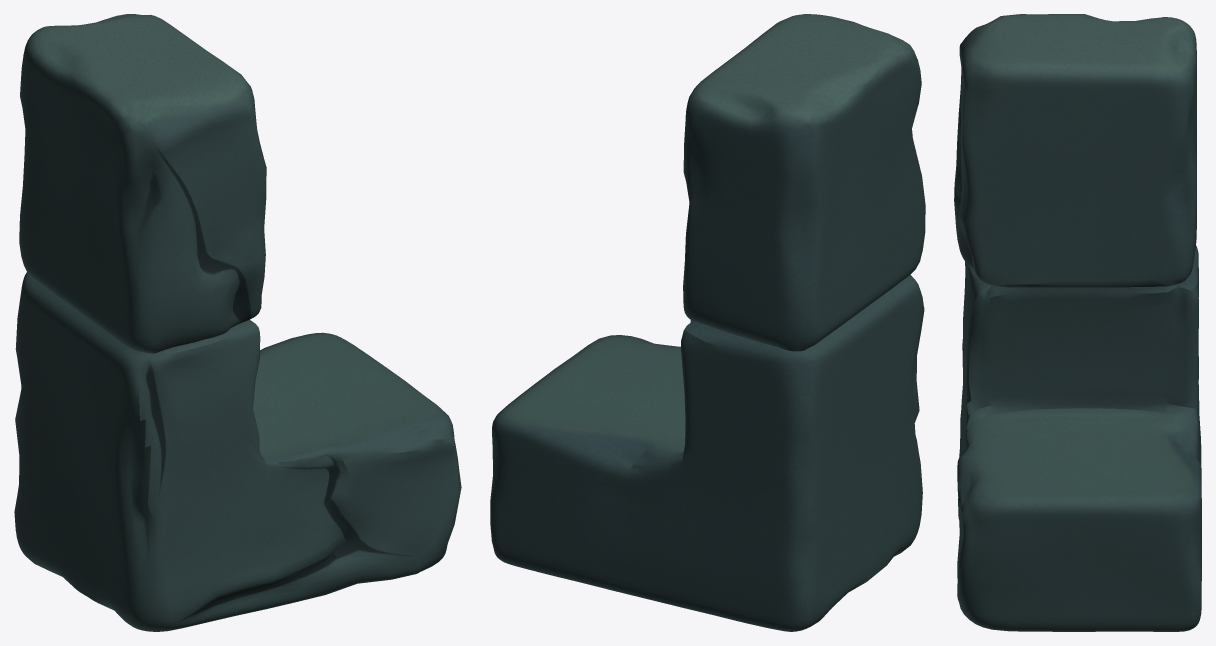
The model's file is brick_L_dungeon.glb.
3 renders of one model, left to right at view 1: azimuth 30°, elevation 25°; view 2: azimuth 150°, elevation 25°; view 3: azimuth 270°, elevation 25°, orthographic. The views are drawn at different scales.
Parts seen in each view (by area): view 1: Mesh_0; view 2: Mesh_0; view 3: Mesh_0.
Boxes of the visible parts, x1=… form: Mesh_0: x1=14, y1=14, x2=461, y2=631; Mesh_0: x1=490, y1=14, x2=925, y2=631; Mesh_0: x1=954, y1=14, x2=1201, y2=631.
Bounding box in the file's own units: 1.23 × 1.9 × 0.8782.
Materials: 1 (1 with a texture image).
